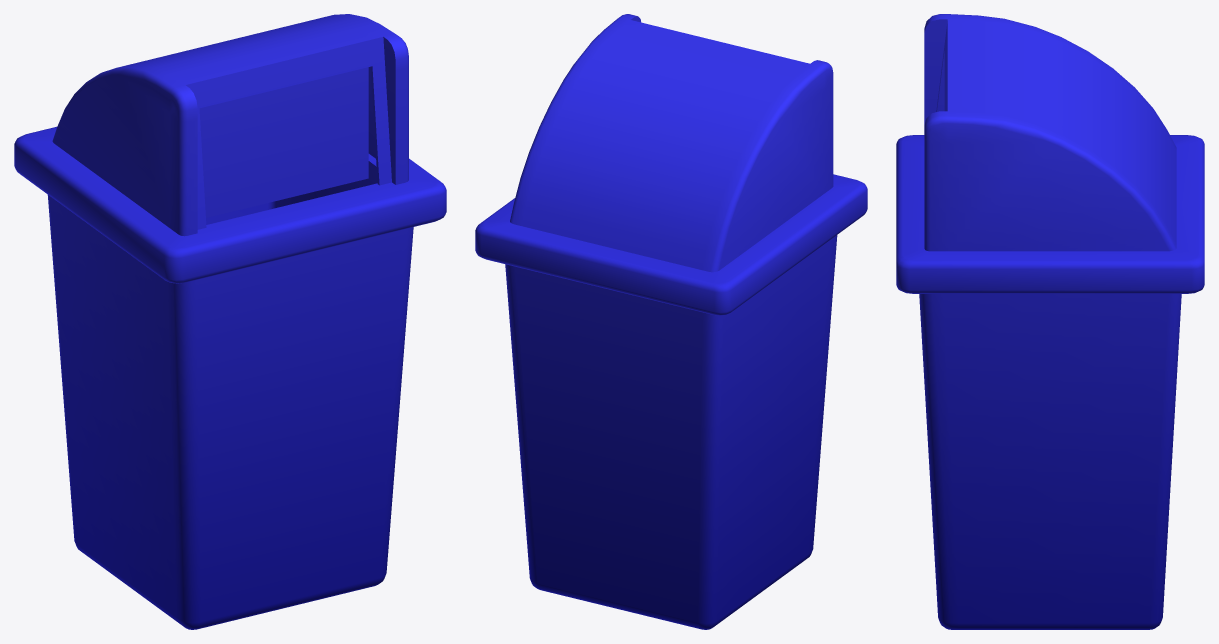
Rendered from trash_bin_c_blue.glb.
3 views of the same model, side by side, from view 1: azimuth 30°, elevation 25°; view 2: azimuth 150°, elevation 25°; view 3: azimuth 270°, elevation 25° (orthographic). The views are drawn at different scales.
Visible parts, largest first — view 1: trash_bin_c_blue; view 2: trash_bin_c_blue; view 3: trash_bin_c_blue.
Boxes of the visible parts, box(x1,y1,x2,y2) form: trash_bin_c_blue: box(14, 14, 446, 629); trash_bin_c_blue: box(475, 14, 867, 629); trash_bin_c_blue: box(896, 14, 1204, 629).
Size of the model in its own units: 0.4111 by 0.7667 by 0.4111.
Materials: 1 (1 with a texture image).
